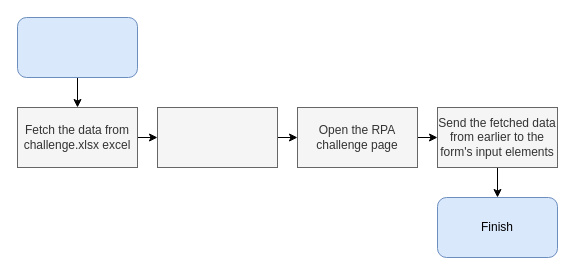
Some shapes in this 575 by 275 pixel diagram are drawn without their labels. Each missing label, with the centre of its shape:
Reformat the fetched data if necessary: point 217,137
Start: point 77,47
